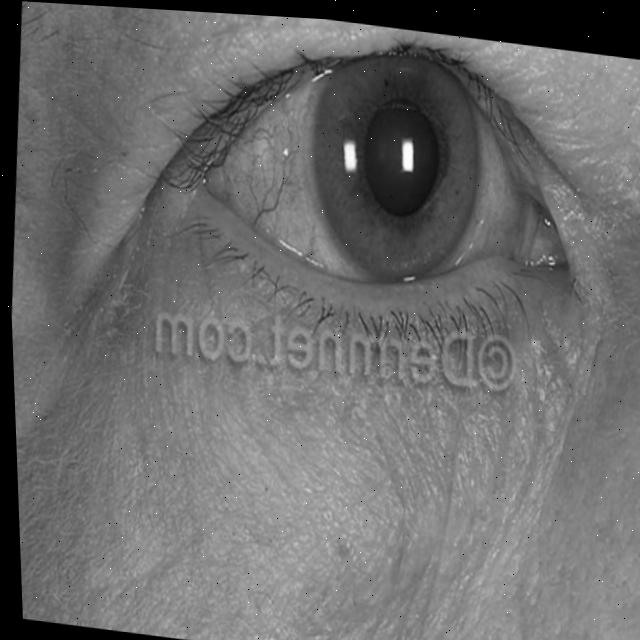Eczema: (95, 207, 612, 554)
